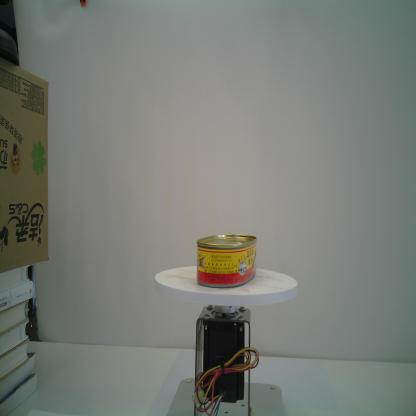Canned Food: (195, 233, 258, 289)
